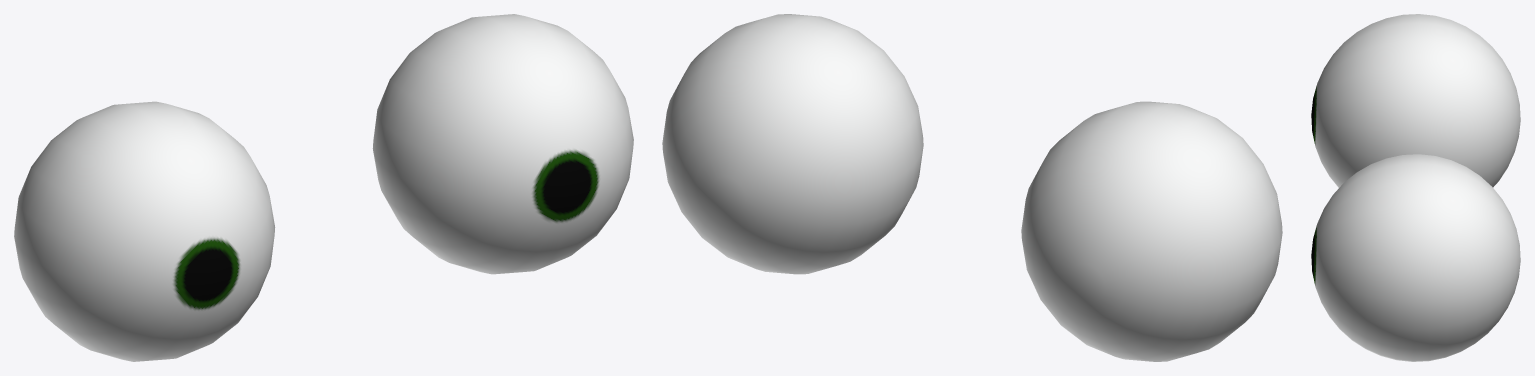
Rendered from Dede_Eyes.fbx.
3 renders of one model, left to right at view 1: azimuth 30°, elevation 25°; view 2: azimuth 150°, elevation 25°; view 3: azimuth 270°, elevation 25°, orthographic. The views are drawn at different scales.
Parts seen in each view (by area): view 1: Eyes; view 2: Eyes; view 3: Eyes.
Part boxes in pixels (x1,y1,x2,y2): Eyes: [14, 14, 633, 361]; Eyes: [662, 14, 1282, 361]; Eyes: [1311, 14, 1520, 361].
Size of the model in its own units: 0.1059 by 0.041 by 0.041.
